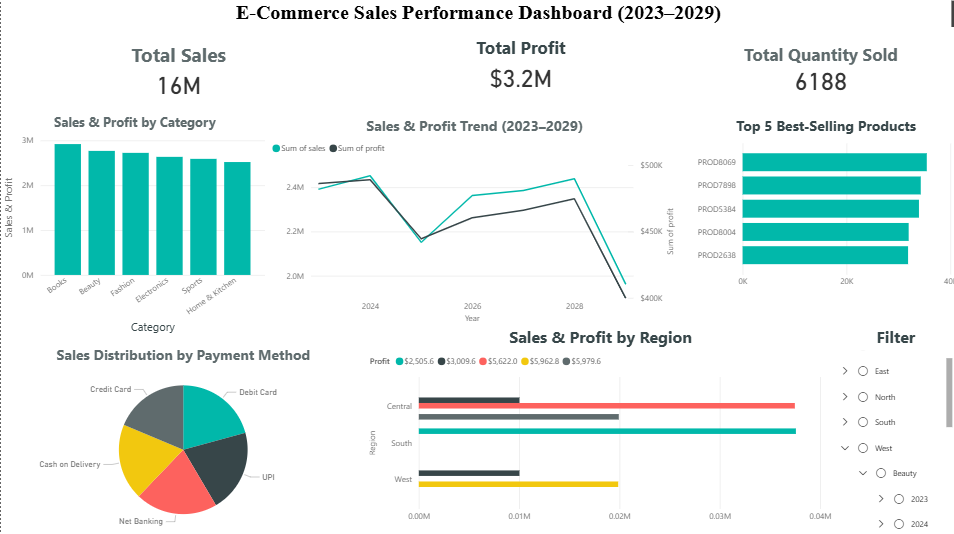

What the dashboard file says about the page in this screenshot:
{"tool":"powerbi","page":{"name":"Page 1","canvas":[1280,720],"ordinal":0},"visuals":[{"type":"card","title":"Total Sales","fields":{"Values":["Sum(indian_ecommerce_sales.sales)"]},"box":[0,1.2,474.4,77.5],"z":0},{"type":"card","title":"Total Profit","fields":{"Values":["Sum(indian_ecommerce_sales.profit)"]},"box":[463.7,0,426.7,78.7],"z":1000},{"type":"card","title":"Total Quantity Sold","fields":{"Values":["Sum(indian_ecommerce_sales.quantity)"]},"box":[907.1,0,373.1,70.3],"z":2000},{"type":"clusteredBarChart","title":"Sales & Profit by Region","fields":{"Category":["indian_ecommerce_sales.region"],"Y":["Sum(indian_ecommerce_sales.sales)"],"Series":["indian_ecommerce_sales.profit"]},"box":[486.2,405,793.8,315],"z":3000},{"type":"clusteredColumnChart","title":"Sales & Profit by Category","fields":{"Category":["indian_ecommerce_sales.category"],"Y":["Sum(indian_ecommerce_sales.sales)"]},"box":[0,122.8,356.4,300.4],"z":4000},{"type":"lineChart","title":"Sales & Profit Trend (2023–2029)","fields":{"Y":["Sum(indian_ecommerce_sales.sales)"],"Y2":["Sum(indian_ecommerce_sales.profit)"],"Category":["indian_ecommerce_sales.order_month.Variation.Date Hierarchy.Year"]},"box":[356.4,122.8,550.7,281.3],"z":5000},{"type":"barChart","title":"Top 5 Best-Selling Products","fields":{"Category":["indian_ecommerce_sales.product_id"],"Y":["Sum(indian_ecommerce_sales.sales)"]},"box":[913.8,122.5,361.2,237.5],"z":6000},{"type":"pieChart","title":"Sales Distribution by Payment Method","fields":{"Category":["indian_ecommerce_sales.payment_method"],"Y":["CountNonNull(indian_ecommerce_sales.category)"]},"box":[0,435,486.2,285],"z":7000}]}

Visuals, with their boxes in screenshot pixels (x1, y1, x2, y2), scaled from the page's 1280x720 canvas onto the 954x534 screenshot:
"Total Sales" card: 0/1/354/58
"Total Profit" card: 346/0/664/58
"Total Quantity Sold" card: 676/0/953/52
"Sales & Profit by Region" clusteredBarChart: 362/300/953/533
"Sales & Profit by Category" clusteredColumnChart: 0/91/266/314
"Sales & Profit Trend (2023–2029)" lineChart: 266/91/676/300
"Top 5 Best-Selling Products" barChart: 681/91/950/267
"Sales Distribution by Payment Method" pieChart: 0/323/362/533
